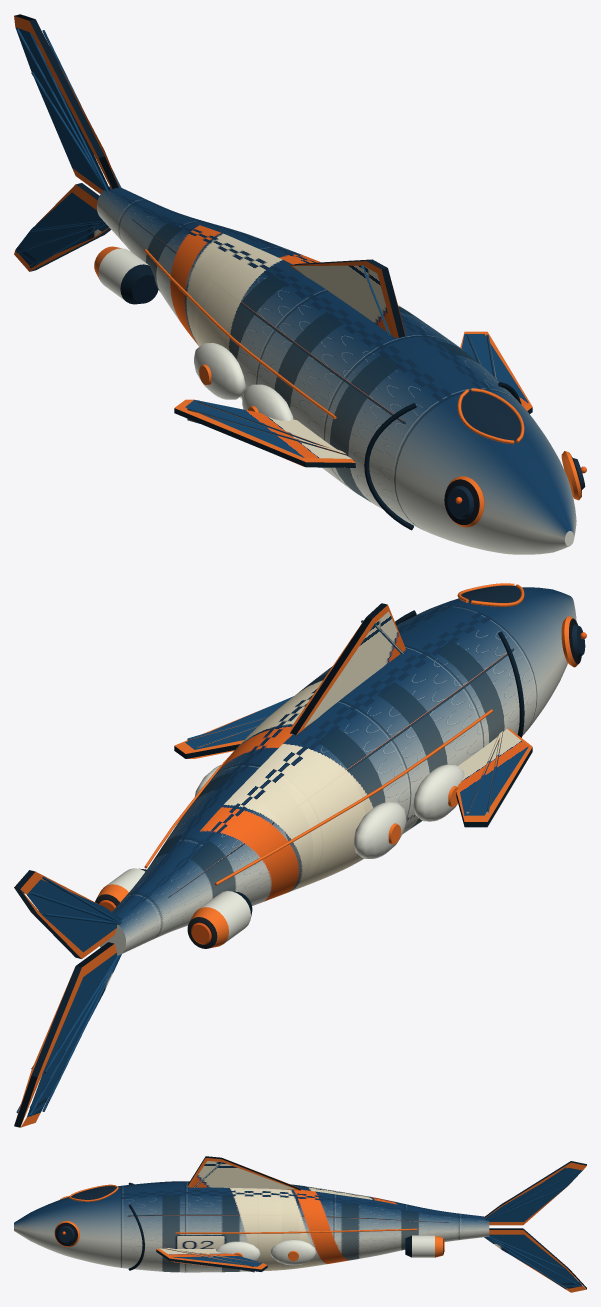
The picture shows the model from 3 angles, top to bottom: view 1: azimuth 30°, elevation 25°; view 2: azimuth 150°, elevation 25°; view 3: azimuth 270°, elevation 25°; orthographic projection. The views are drawn at different scales.
Parts seen in each view (by area): view 1: pilotfish_hull; view 2: pilotfish_hull; view 3: pilotfish_hull.
Boxes of the visible parts, <box> form: pilotfish_hull: <box>14,14,586,554</box>; pilotfish_hull: <box>14,583,586,1127</box>; pilotfish_hull: <box>14,1156,586,1292</box>.
Size of the model in its own units: 5.24 by 4.16 by 16.
Materials: 1 (1 with a texture image).
